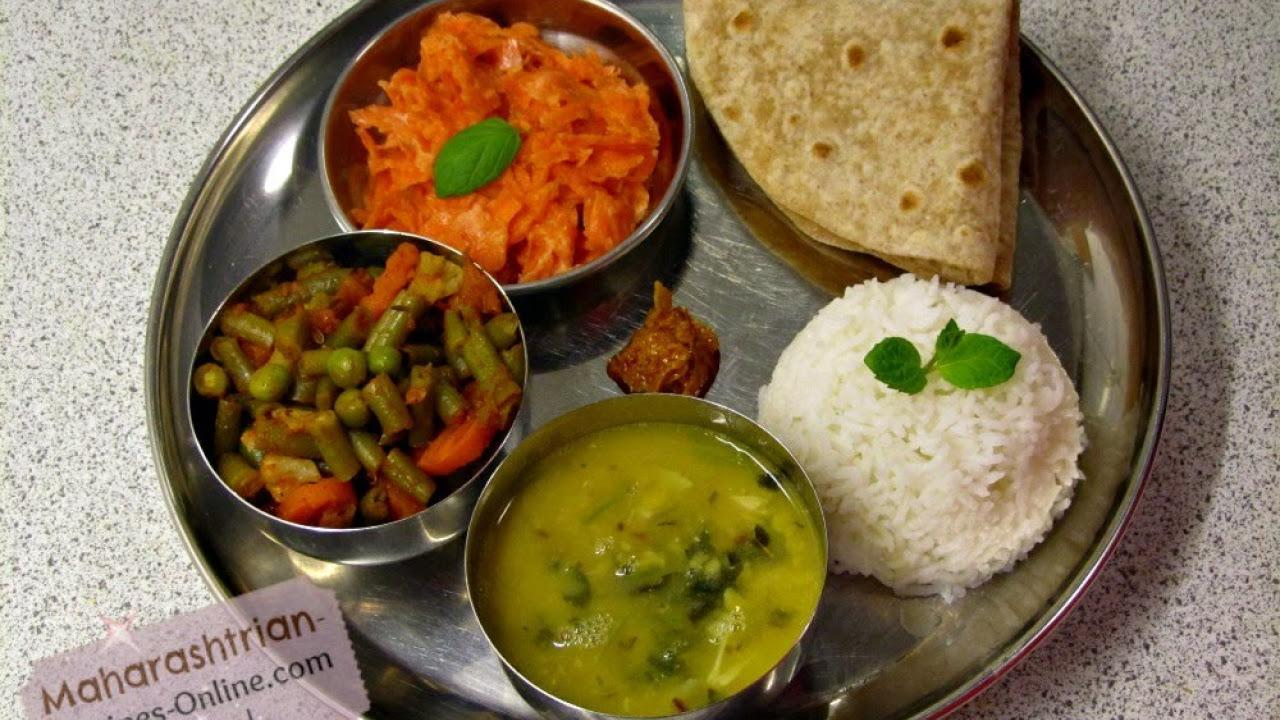rice: (800, 278, 1111, 598)
roti phulka: (661, 0, 1077, 287)
varan: (498, 428, 810, 720)
